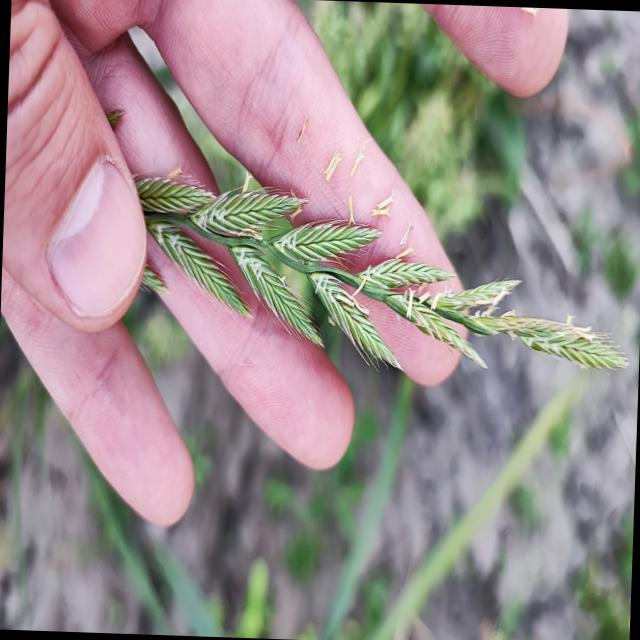Lolium: (121, 160, 635, 393)
